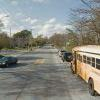Bus: (69, 40, 100, 100)
